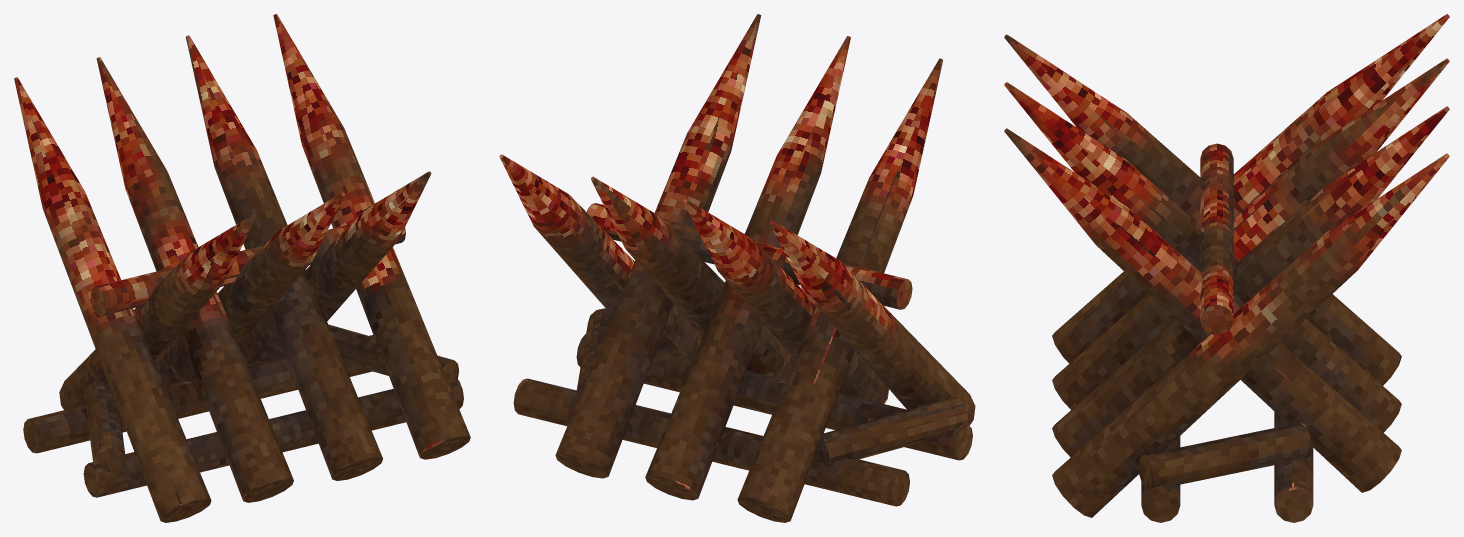
File: Spike_Fence_Variant_1_Alternative_2.gltf
3 renders of one model, left to right at view 1: azimuth 30°, elevation 25°; view 2: azimuth 150°, elevation 25°; view 3: azimuth 270°, elevation 25°, orthographic. The views are drawn at different scales.
Visible parts, largest first — view 1: Spike_Fence_Variant_1_Alternative_2; view 2: Spike_Fence_Variant_1_Alternative_2; view 3: Spike_Fence_Variant_1_Alternative_2.
Boxes of the visible parts, x1=… form: Spike_Fence_Variant_1_Alternative_2: x1=14, y1=14, x2=470, y2=522; Spike_Fence_Variant_1_Alternative_2: x1=499, y1=14, x2=975, y2=522; Spike_Fence_Variant_1_Alternative_2: x1=1004, y1=14, x2=1449, y2=522.
Size of the model in its own units: 4.79 by 4.1 by 4.59.
1 material, 1 textured.
